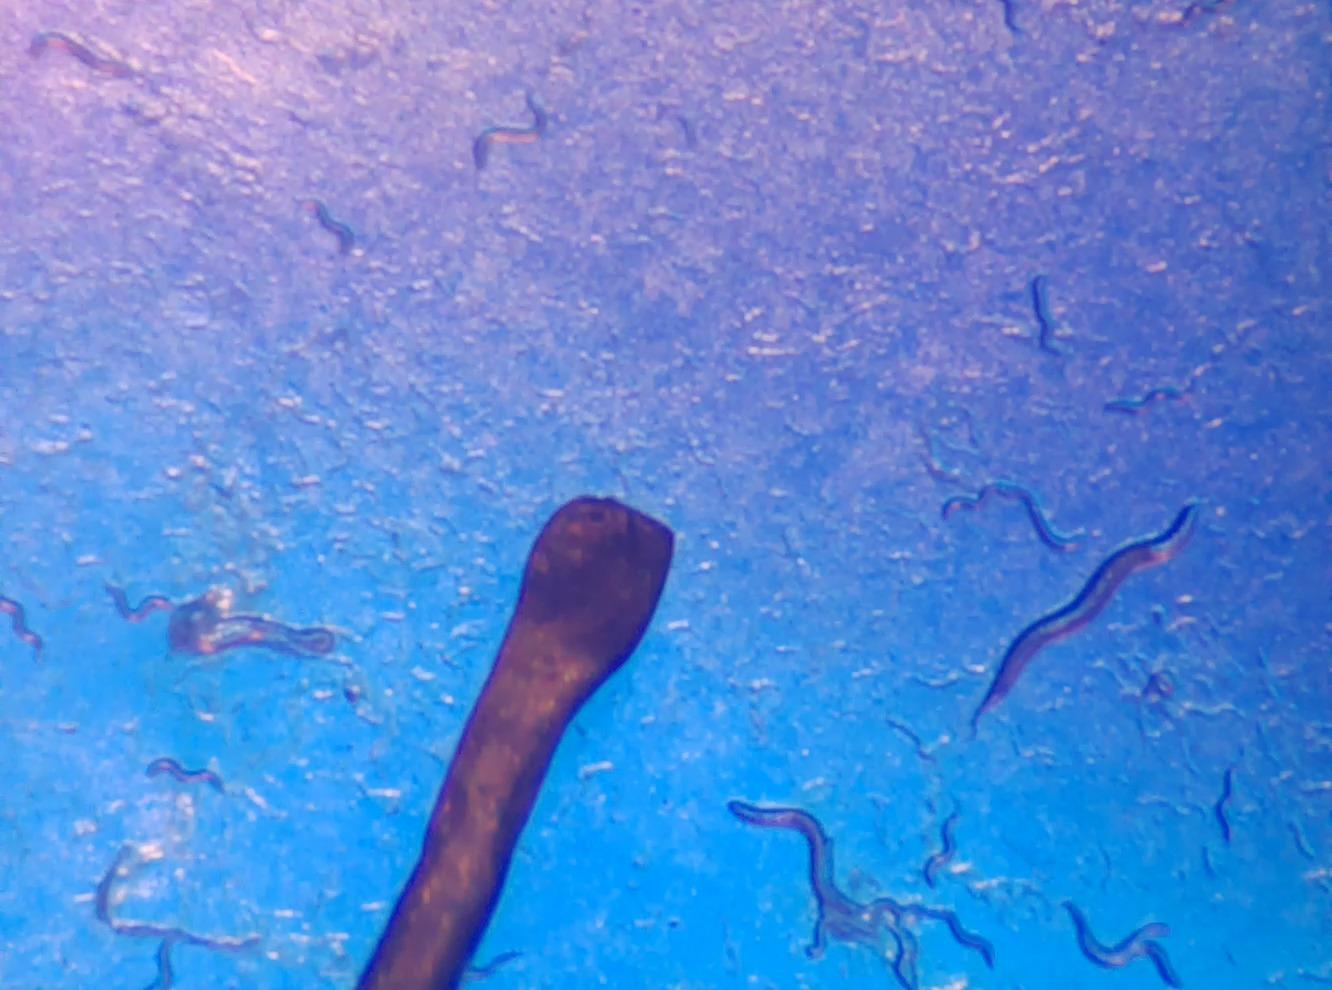pick: (356, 496, 673, 989)
worm: (971, 501, 1199, 735), (728, 800, 993, 989), (1063, 901, 1182, 987), (942, 481, 1082, 551), (473, 92, 547, 170), (28, 31, 133, 77), (303, 199, 354, 254), (145, 757, 224, 792), (0, 595, 43, 658), (922, 811, 958, 887), (104, 583, 173, 622), (1104, 386, 1186, 414)
